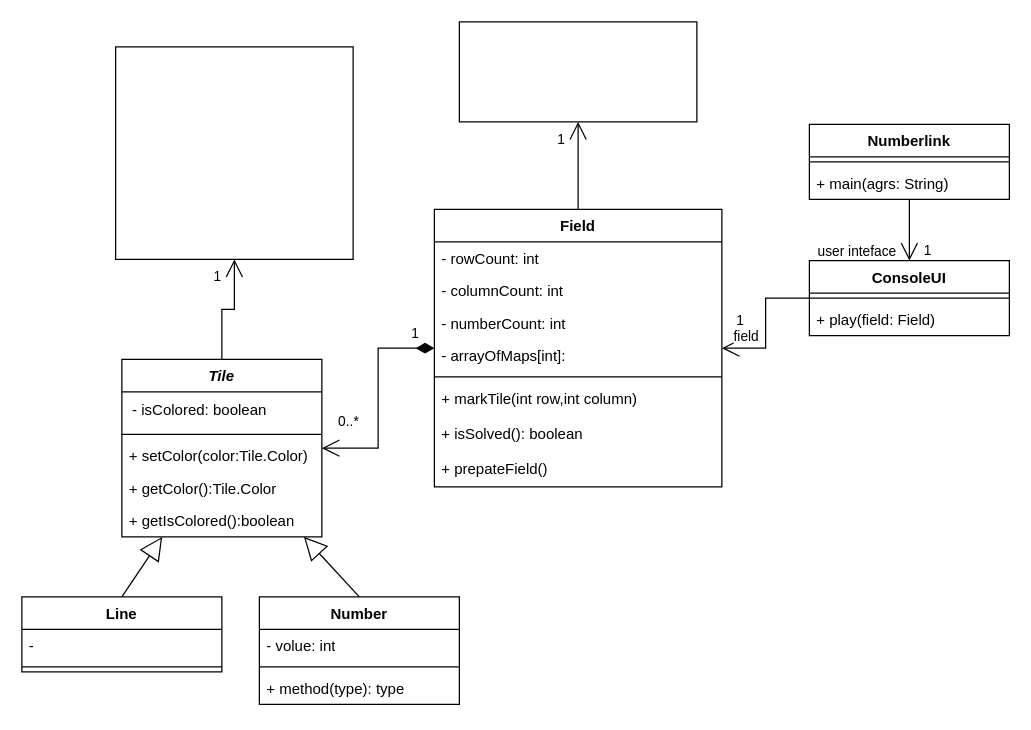
The diagram is 1031 pixels wide and 730 high, and some of its shapes have lost their labels. Each missing label, with the centre of its shape:
"<< enumeration >> Colors +RED +GREEN +BLUE +YELLOW . . . +NULL" belongs at (233,152).
"<< enumeration >> GameState +PLAYING +SOLVED" belongs at (577,71).
